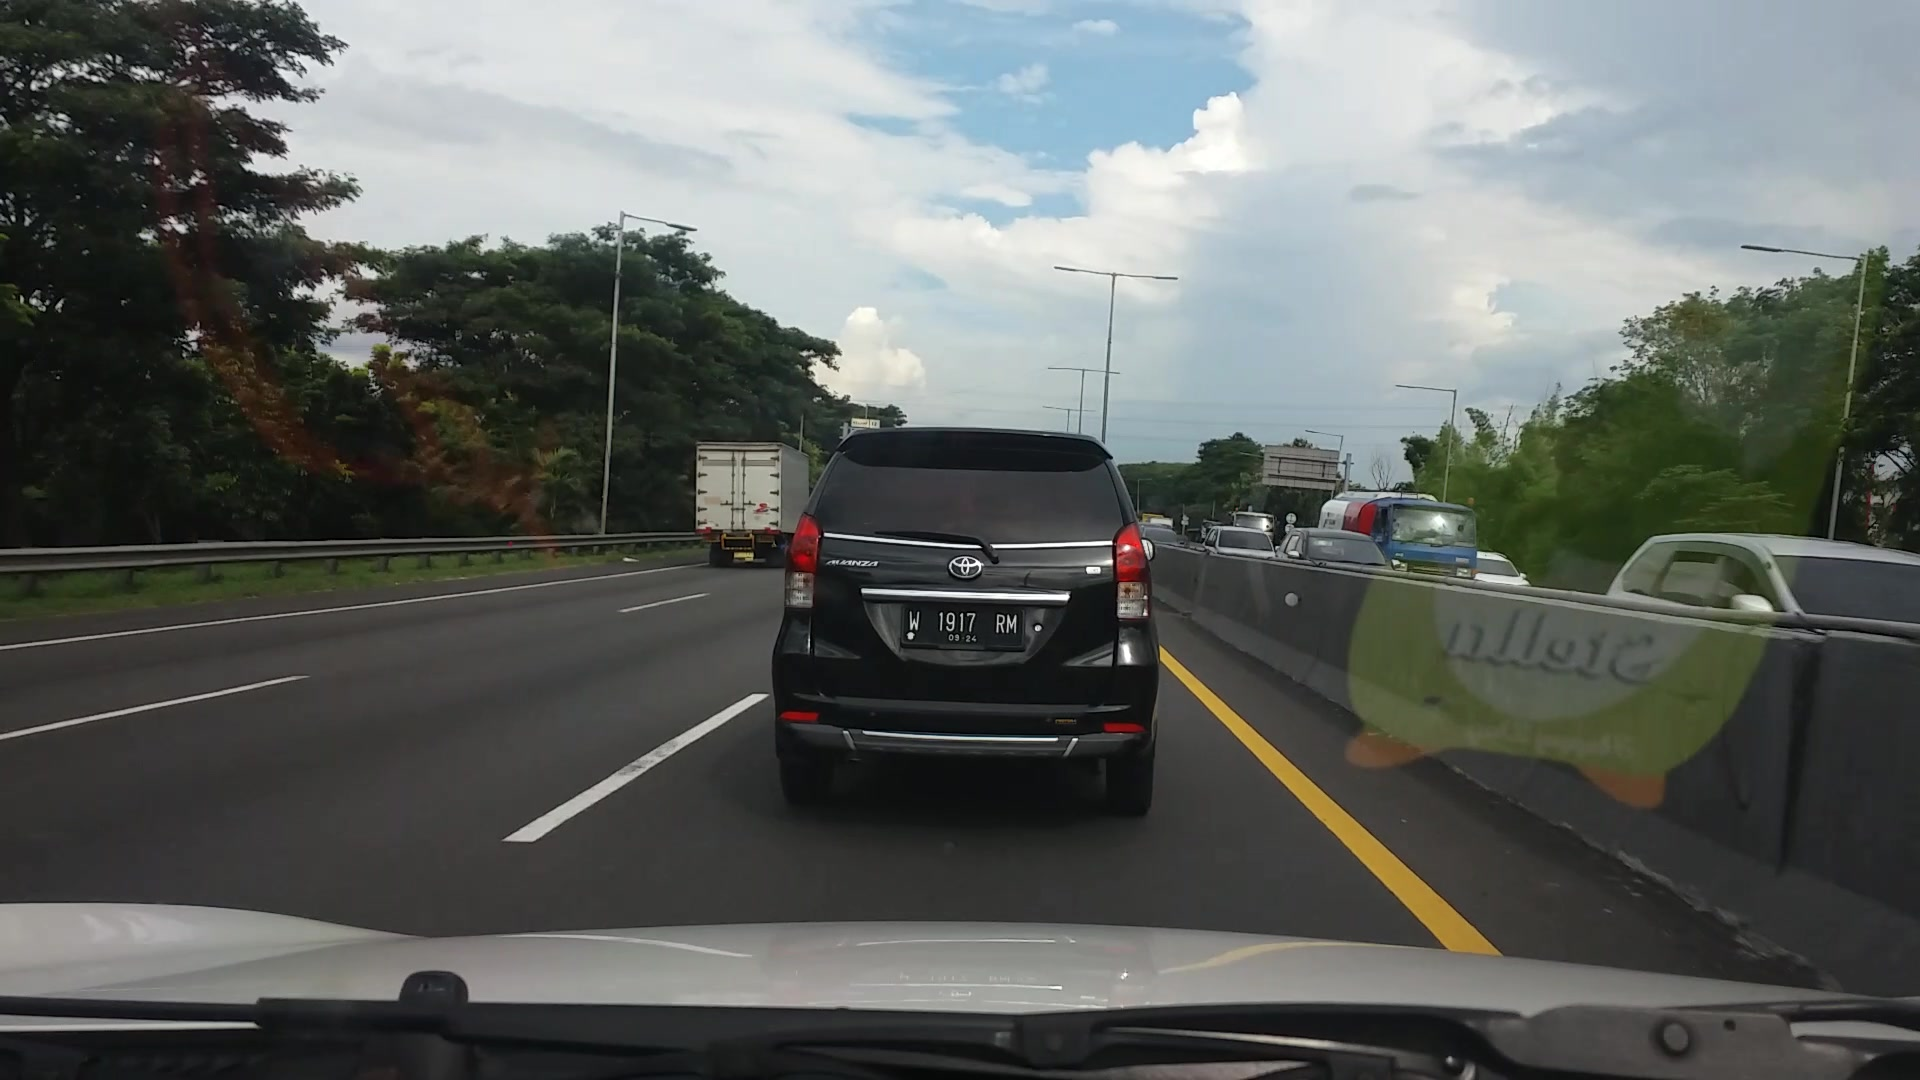plate_positive: (901, 607, 1026, 651)
